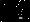person: (17, 10, 24, 19)
